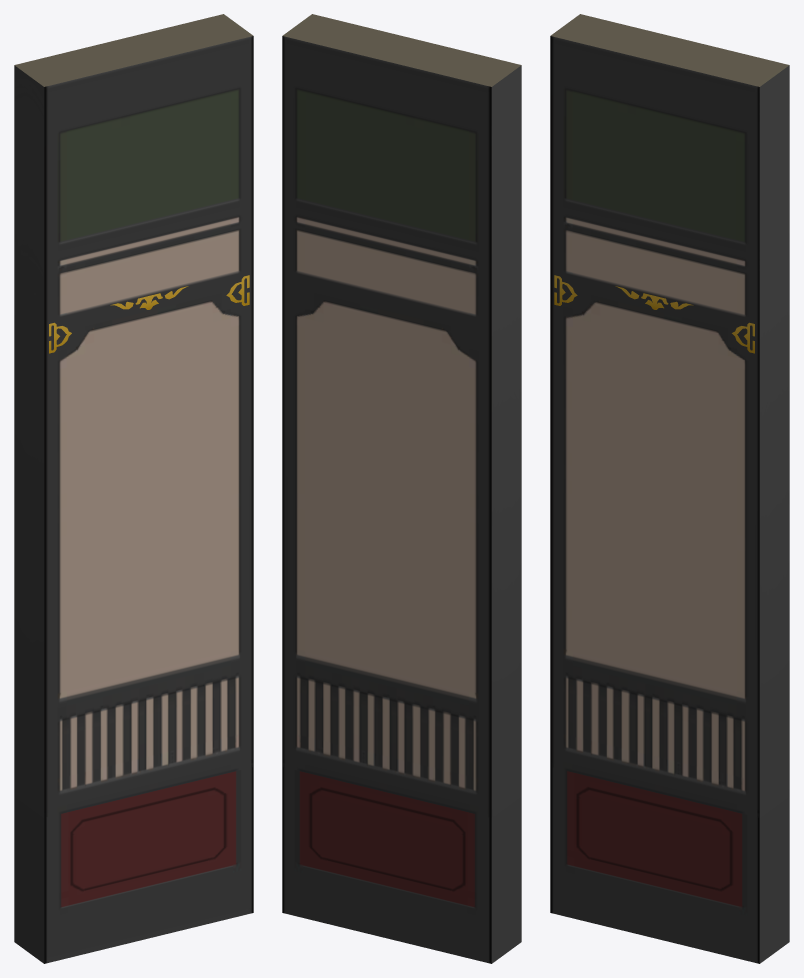
Rendered from my_newyearpath_01_wall_left.glb.
The picture shows the model from 3 angles, left to right: view 1: azimuth 30°, elevation 25°; view 2: azimuth 150°, elevation 25°; view 3: azimuth 330°, elevation 25°; orthographic projection.
Parts seen in each view (by area): view 1: my_newyearpath_01_wall_left; view 2: my_newyearpath_01_wall_left; view 3: my_newyearpath_01_wall_left.
Part boxes in pixels (x1,y1,x2,y2): my_newyearpath_01_wall_left: [14, 14, 253, 963]; my_newyearpath_01_wall_left: [282, 14, 521, 963]; my_newyearpath_01_wall_left: [550, 14, 789, 963].
Bounding box in the file's own units: 0.012 × 0.048 × 0.003.
Materials: 1 (1 with a texture image).
